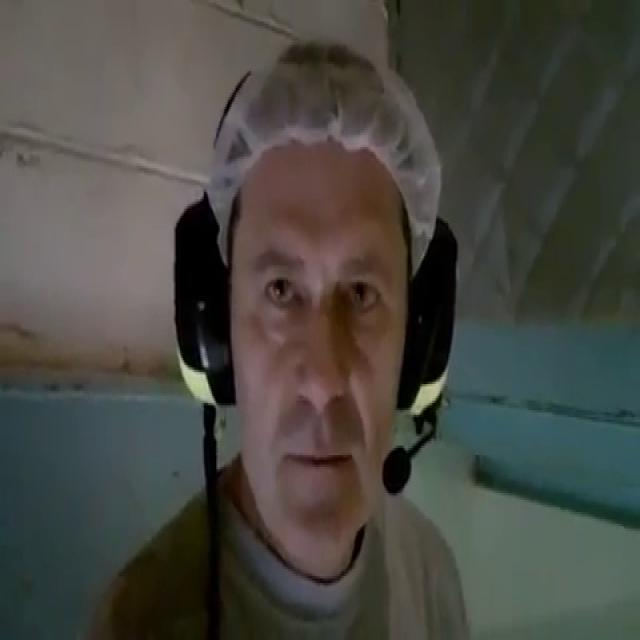earmuff: (171, 196, 241, 414), (395, 216, 461, 426)
